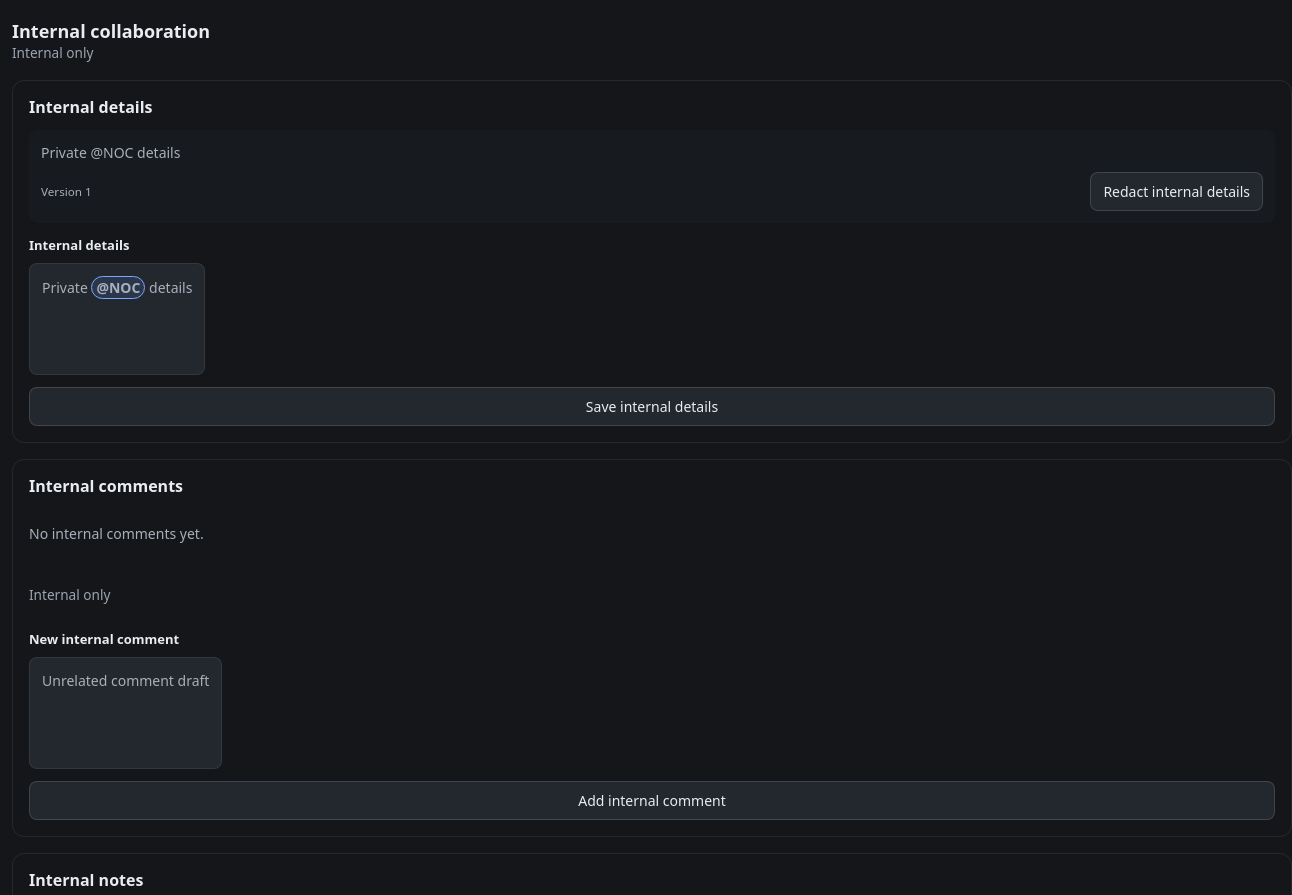
Test: InternalCollaborationPanel › redacts native details terminally, clears only its structured draft after success, and preserves every draft on failure
Check: the field named "Internal details" reads "Private @NOC details", box left=29, top=264, right=205, bottom=376
Clear the field named "New internal comment" at {"x": 126, "y": 713}, box left=29, top=657, right=222, bottom=769
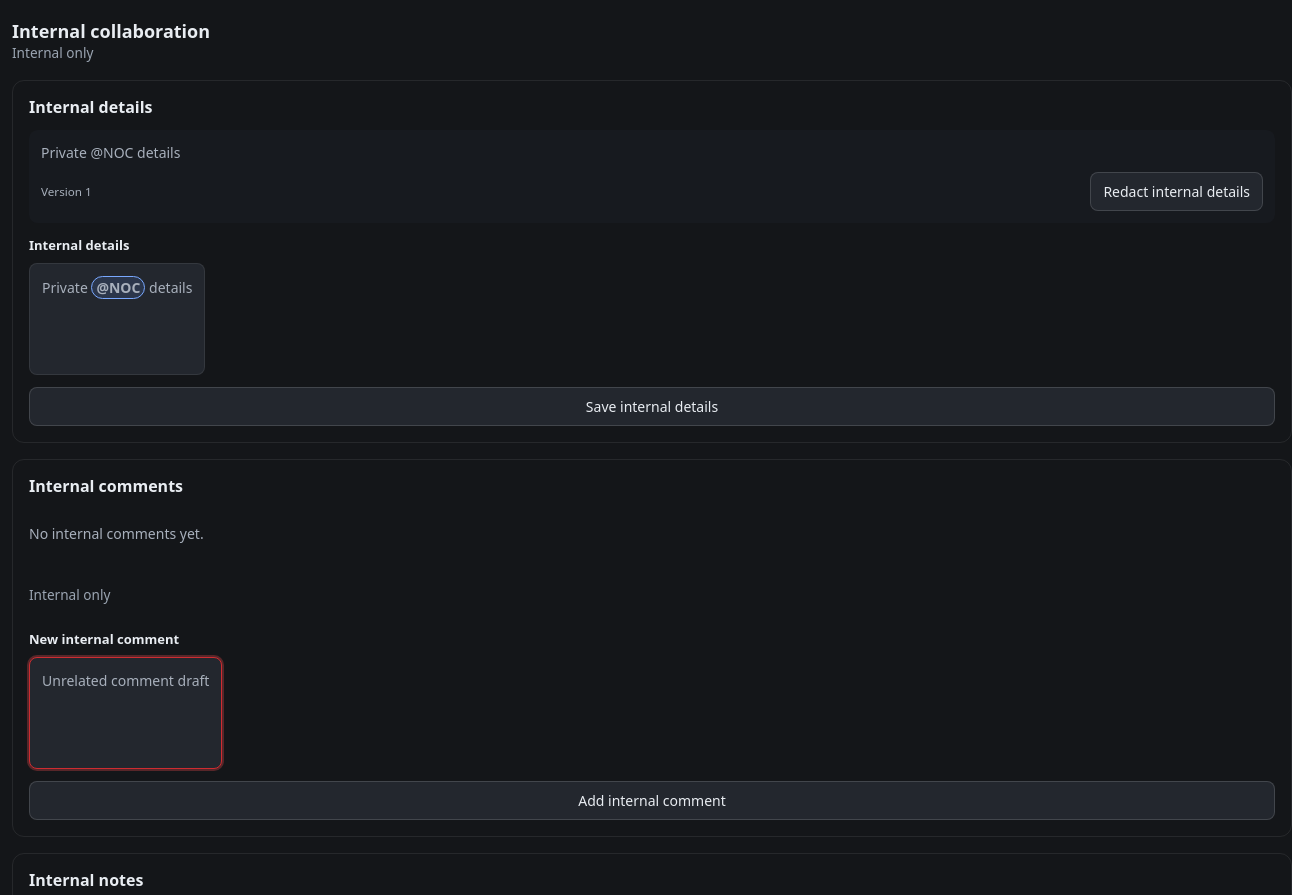
Click the button "Redact internal details" at {"x": 1177, "y": 192}, box left=1090, top=172, right=1263, bottom=211
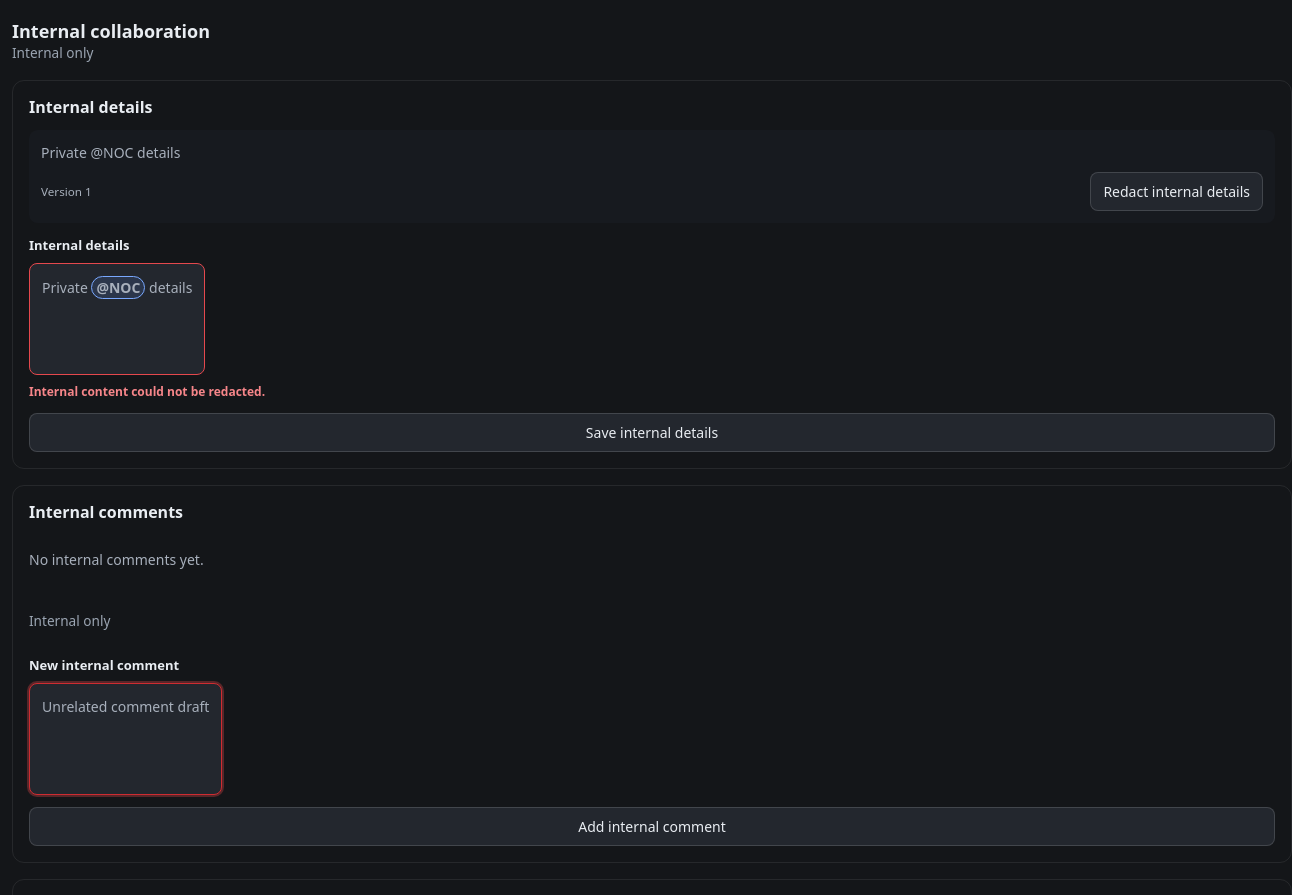
Check: the field named "Internal details" reads "Private @NOC details", box left=29, top=264, right=205, bottom=376
Check: the text "Internal content could not be redacted." is shown, box left=29, top=384, right=265, bottom=400
Click the button "Redact internal details" at {"x": 1177, "y": 192}, box left=1090, top=172, right=1263, bottom=211
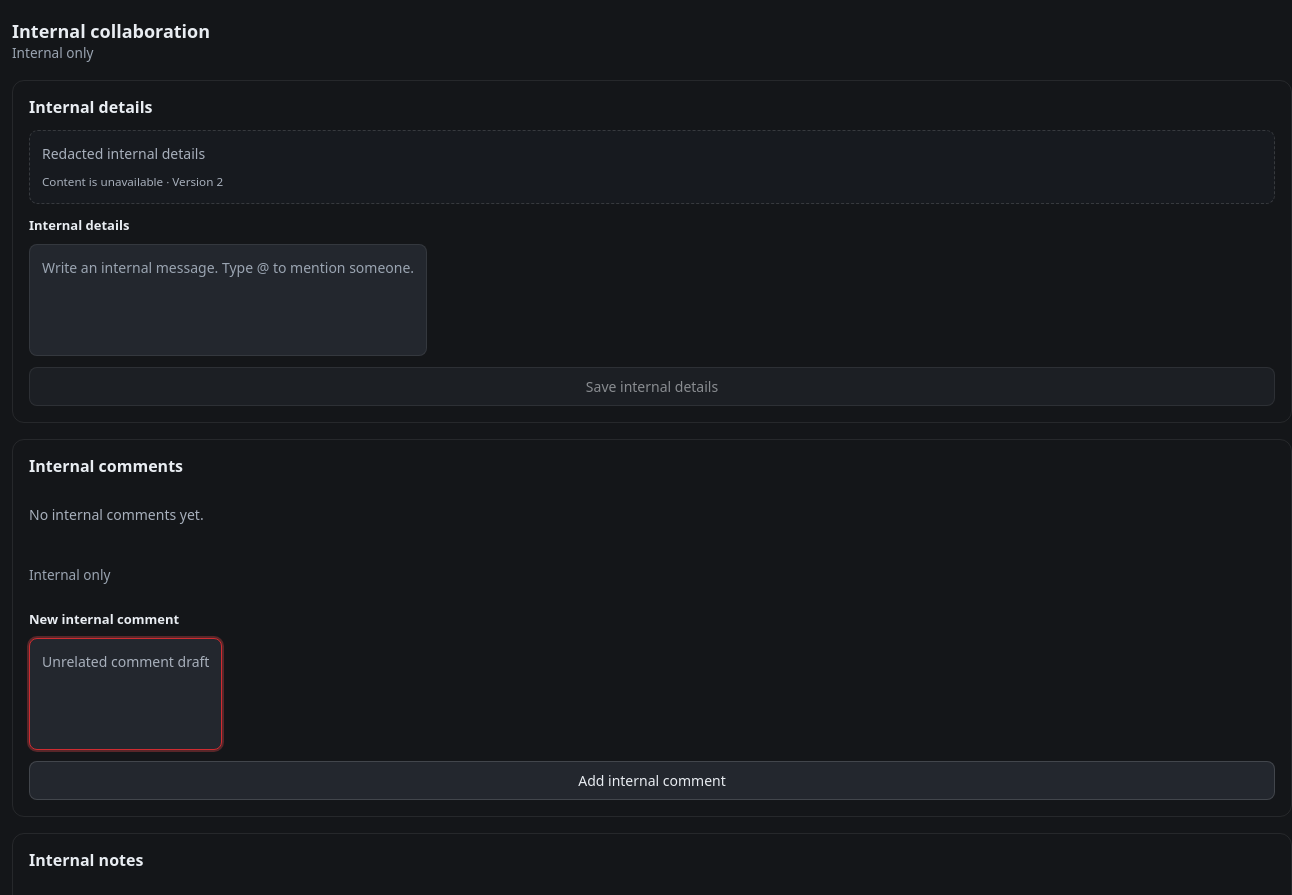
Check: the text "Redacted internal details" is shown, box left=42, top=144, right=205, bottom=163
Check: the field named "Internal details" is empty, box left=29, top=244, right=427, bottom=356
